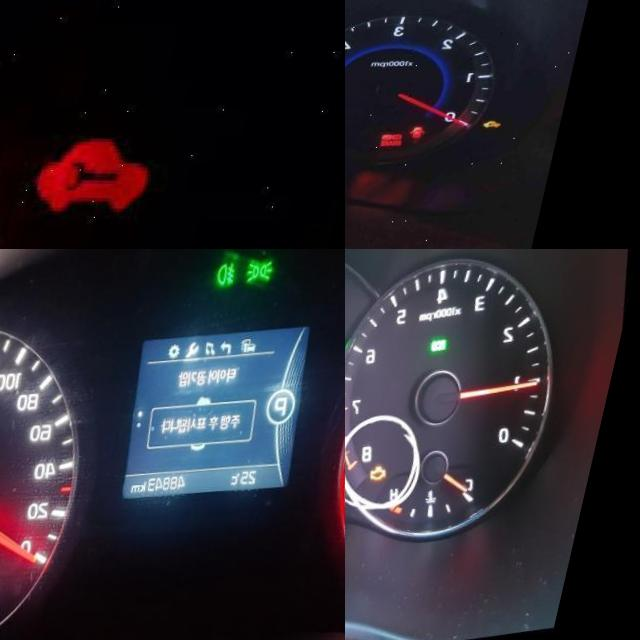FrontFogLight: (224, 259, 248, 286)
SideLamp: (253, 257, 285, 283), (345, 326, 358, 344)
